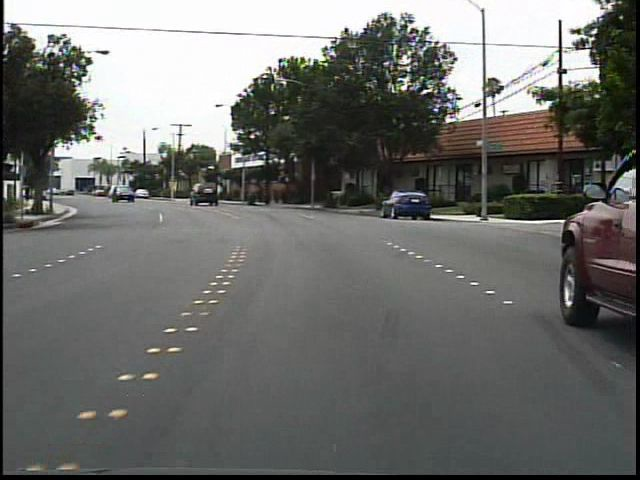person: (20, 178, 38, 207)
